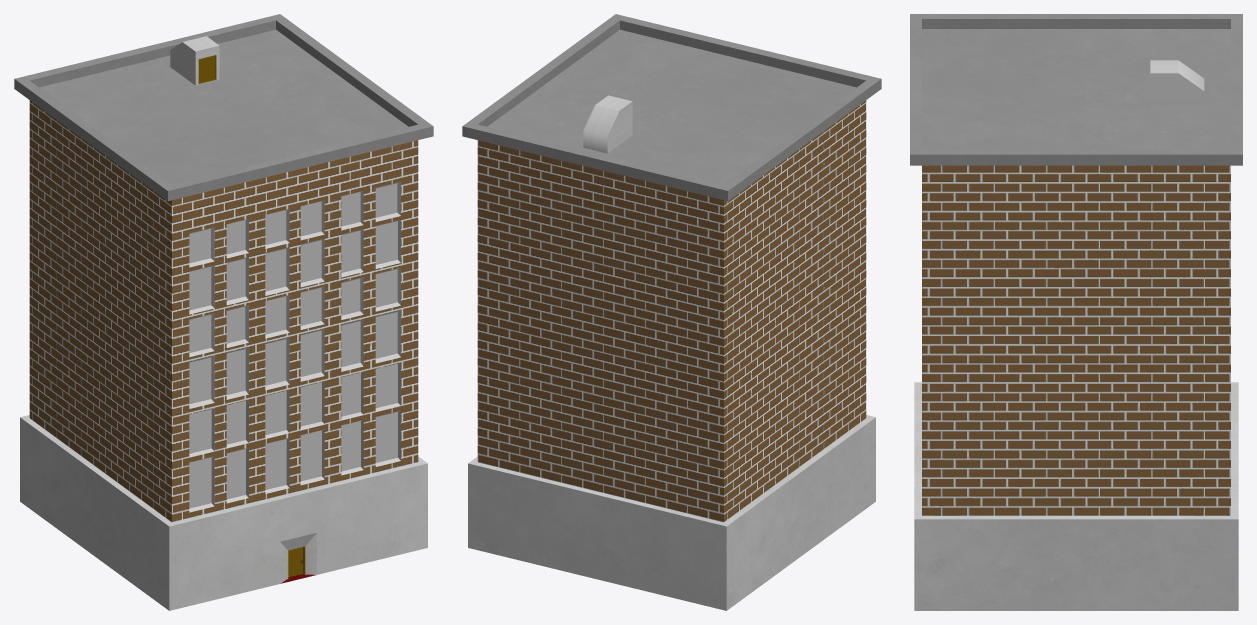
The model's file is ApartmentComplex.fbx.
3 views of the same model, side by side, from view 1: azimuth 30°, elevation 25°; view 2: azimuth 150°, elevation 25°; view 3: azimuth 270°, elevation 25° (orthographic). The views are drawn at different scales.
Parts seen in each view (by area): view 1: ApartmentComplex; view 2: ApartmentComplex; view 3: ApartmentComplex.
Part boxes in pixels (bbox=[...]): ApartmentComplex: bbox=[14, 14, 433, 610]; ApartmentComplex: bbox=[462, 14, 881, 610]; ApartmentComplex: bbox=[910, 14, 1242, 610].
Size of the model in its own units: 4.31 by 6.93 by 4.31.
